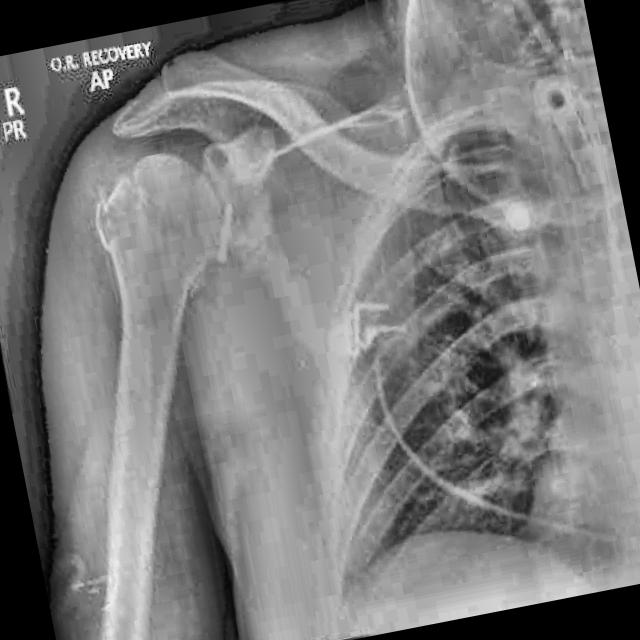shoulder fracture: (81, 154, 164, 286)
